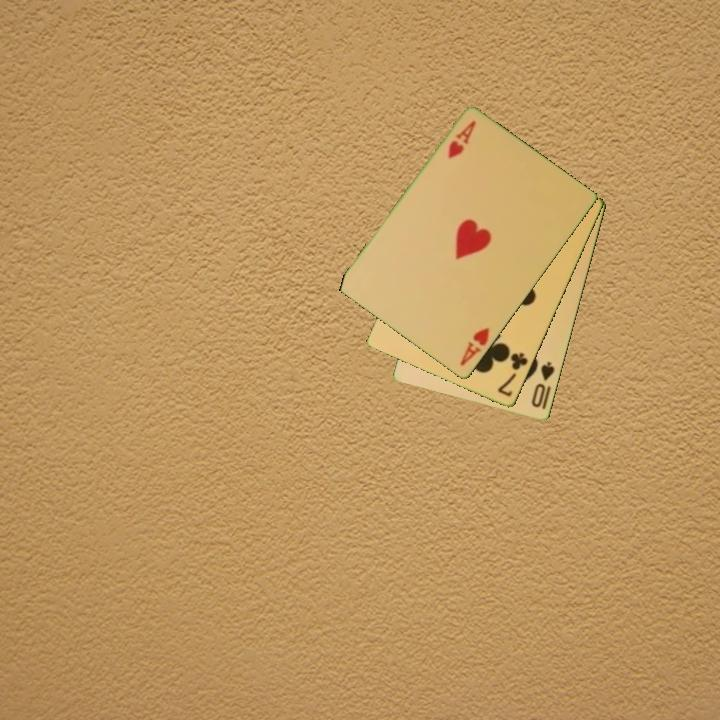10s: (528, 358, 558, 411)
7c: (494, 349, 531, 400)
Ah: (456, 324, 492, 369), (444, 117, 479, 162)
